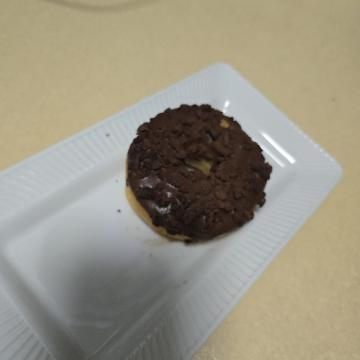doughnut: (86, 76, 252, 250)
